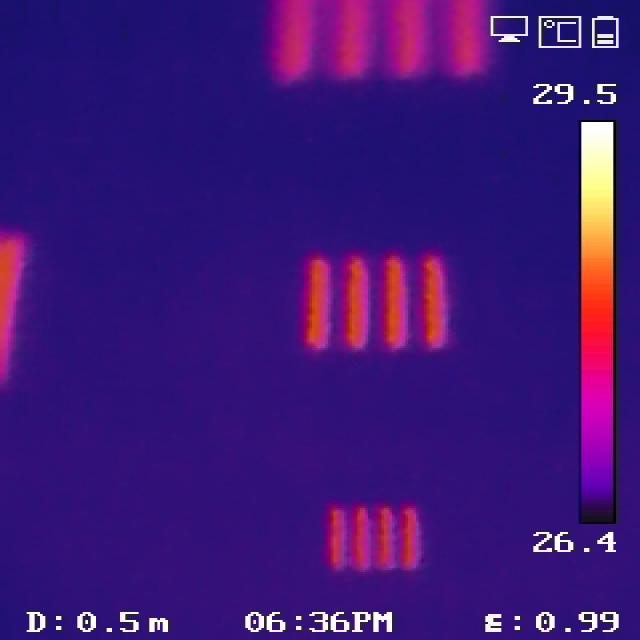Distinguishable 4-bar target: (268, 0, 485, 78), (305, 256, 455, 355), (325, 504, 427, 572)
